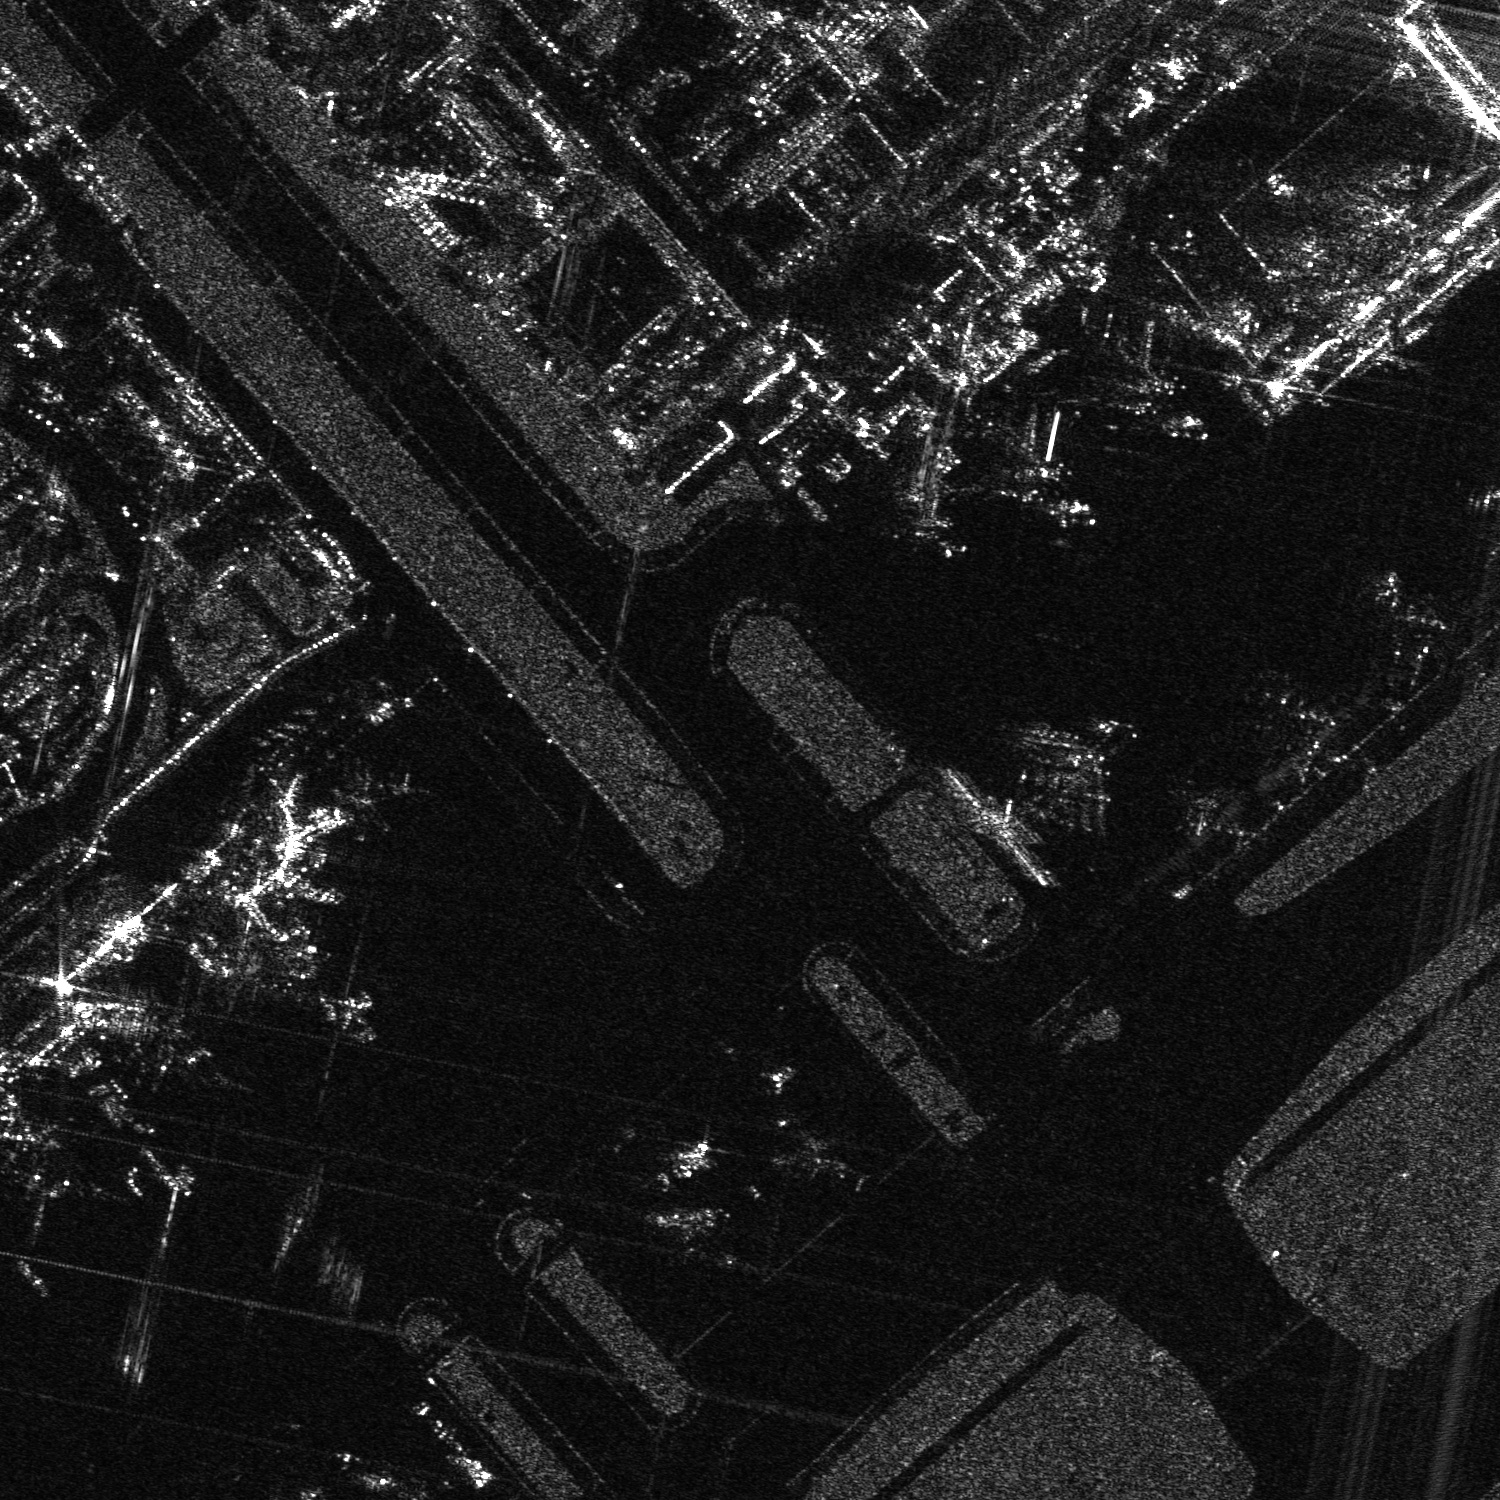Boeing737: (775, 1104, 874, 1191), (640, 1190, 738, 1271), (876, 470, 946, 538), (316, 988, 387, 1045)
Boeing787: (1368, 560, 1462, 663), (978, 401, 1070, 497), (1092, 315, 1185, 396)
other: (1012, 714, 1139, 837), (1239, 657, 1343, 771), (1466, 479, 1499, 574)
